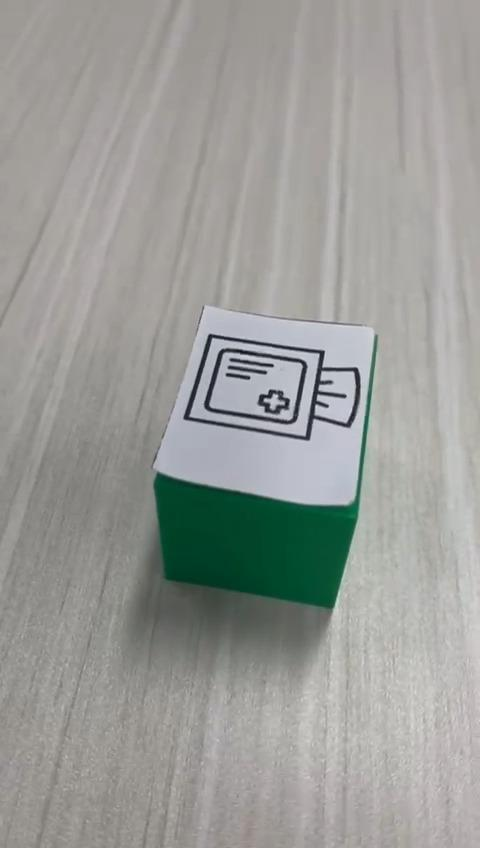Gauze: (150, 303, 378, 610)
